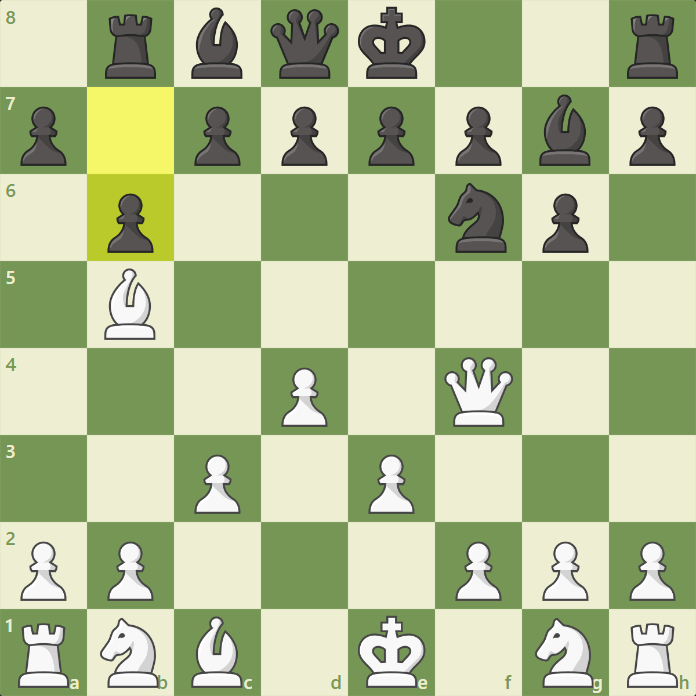B: (100, 266, 158, 342), (189, 614, 245, 691)
K: (357, 613, 427, 691)
N: (97, 616, 163, 692), (532, 614, 598, 690)
P: (17, 539, 70, 604), (189, 450, 242, 515), (365, 451, 418, 516), (451, 538, 504, 603), (539, 538, 592, 603), (625, 537, 678, 602), (278, 364, 331, 429), (105, 538, 155, 602)
Q: (442, 354, 515, 429)
R: (15, 620, 73, 691), (623, 620, 681, 691)
b: (188, 5, 245, 83), (536, 93, 595, 168)
k: (355, 4, 428, 82)
n: (445, 181, 509, 256)
p: (104, 191, 156, 256), (16, 104, 68, 169), (540, 190, 592, 255), (192, 104, 244, 169), (278, 104, 330, 169), (365, 105, 417, 170), (452, 105, 504, 170), (625, 105, 677, 170)
q: (268, 7, 342, 81)
r: (623, 12, 682, 82), (101, 11, 158, 82)
